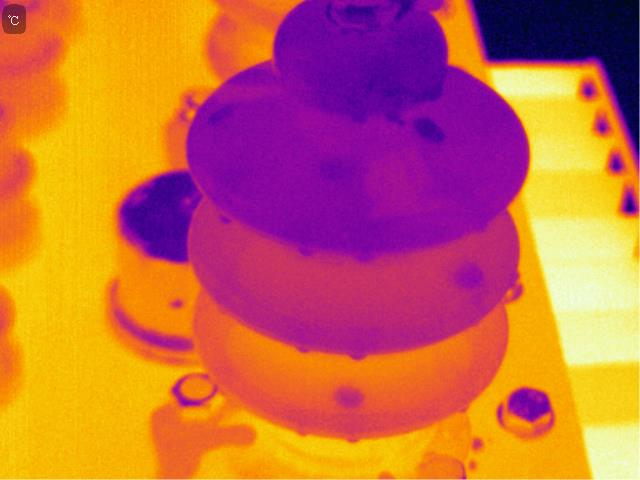Water: (412, 118, 447, 145), (453, 264, 485, 290), (333, 384, 363, 410), (319, 158, 349, 184), (417, 82, 445, 106), (351, 244, 377, 265), (210, 105, 234, 125), (293, 341, 313, 361), (212, 211, 235, 228), (348, 107, 369, 125), (381, 112, 405, 126), (295, 244, 319, 258), (341, 434, 362, 446), (293, 427, 312, 440), (347, 353, 370, 363), (458, 402, 468, 416)
